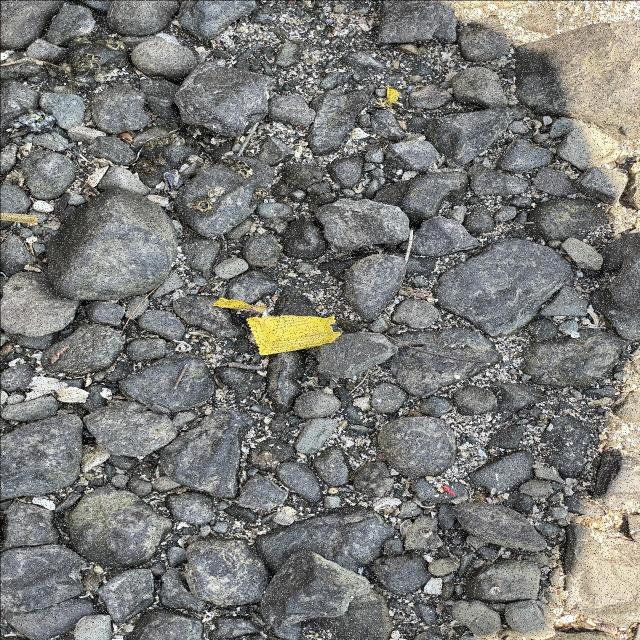plastic_waste: (215, 297, 344, 355)
